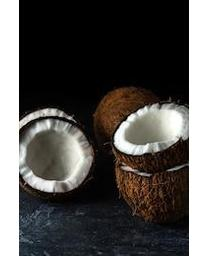coconut: (18, 107, 96, 199), (111, 101, 189, 169), (115, 159, 189, 226)
